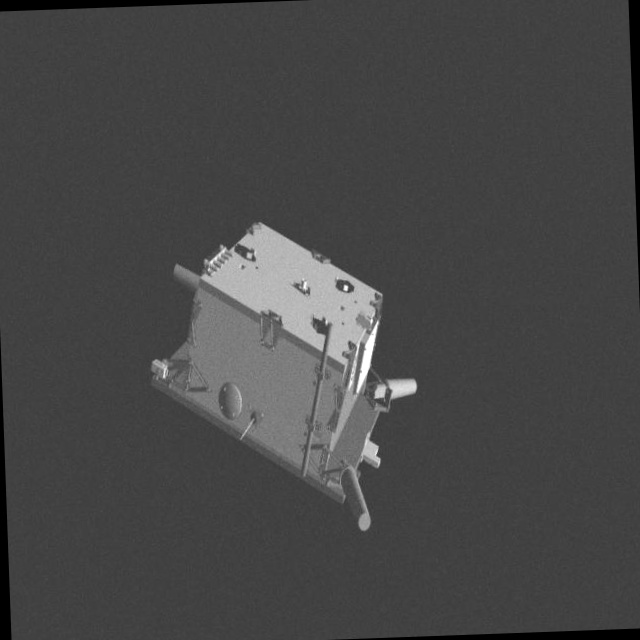satellite: (136, 200, 426, 546)
